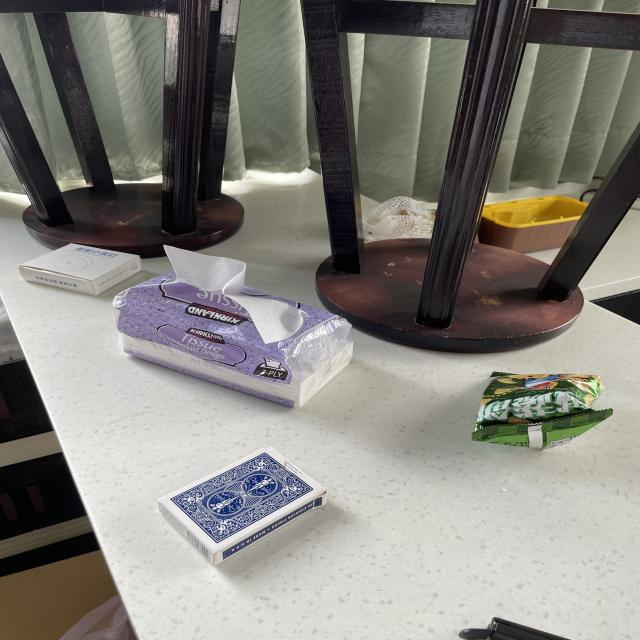tissue: (110, 243, 360, 411)
